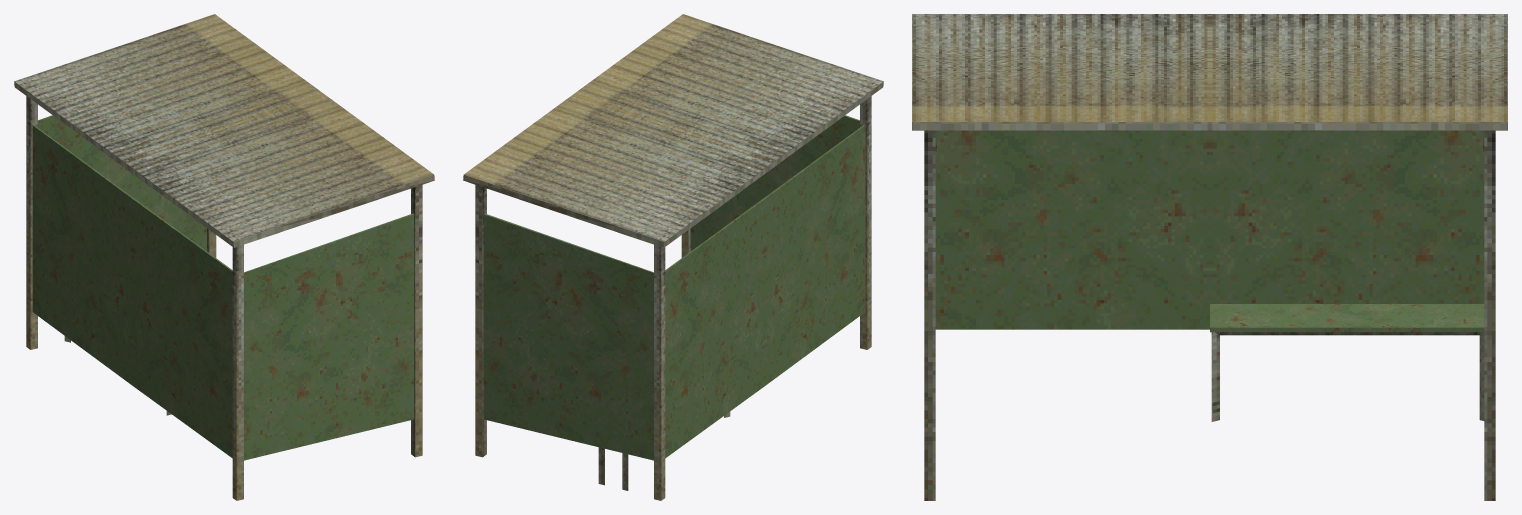
Rendered from busstop_alt_clean_bench.glb.
The picture shows the model from 3 angles, left to right: view 1: azimuth 30°, elevation 25°; view 2: azimuth 150°, elevation 25°; view 3: azimuth 270°, elevation 25°; orthographic projection. The views are drawn at different scales.
Parts seen in each view (by area): view 1: busstop_alt_clean_bench; view 2: busstop_alt_clean_bench; view 3: busstop_alt_clean_bench.
Part boxes in pixels (x1,y1,x2,y2): busstop_alt_clean_bench: (14,14,434,500); busstop_alt_clean_bench: (463,14,883,500); busstop_alt_clean_bench: (912,14,1507,500).
Bounding box in the file's own units: 2.26 × 3.03 × 4.26.
1 material, 1 textured.
